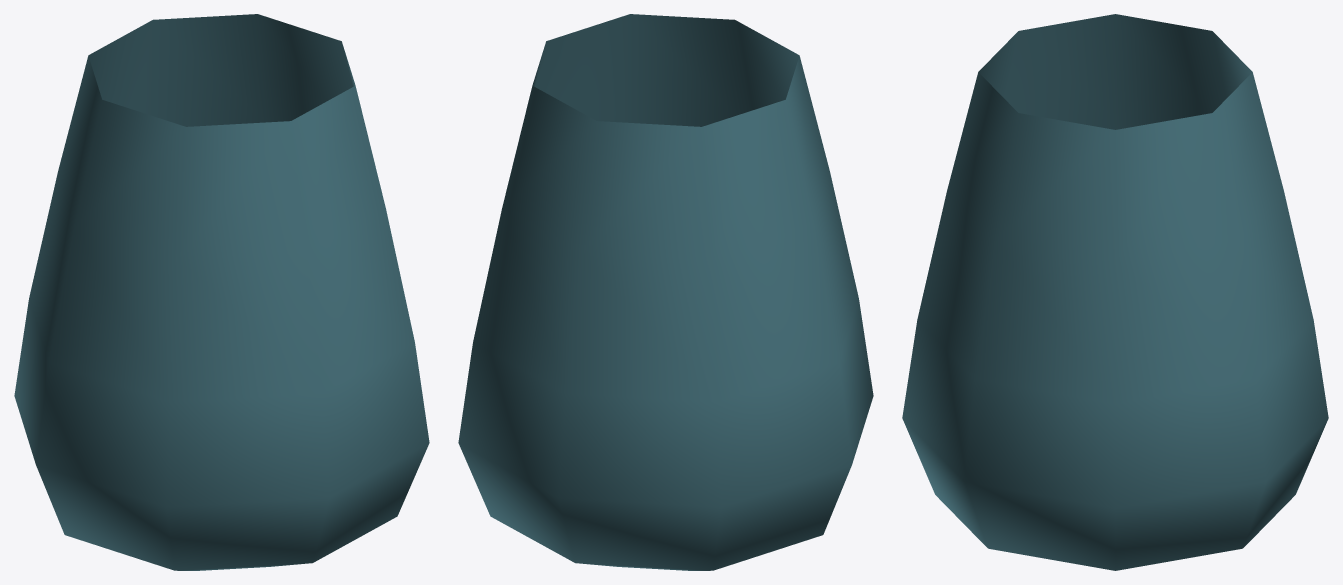
The picture shows the model from 3 angles, left to right: view 1: azimuth 30°, elevation 25°; view 2: azimuth 150°, elevation 25°; view 3: azimuth 270°, elevation 25°; orthographic projection.
Parts seen in each view (by area): view 1: transp.001; view 2: transp.001; view 3: transp.001.
Part boxes in pixels (bbox=[...]): transp.001: bbox=[14, 14, 429, 570]; transp.001: bbox=[458, 14, 873, 570]; transp.001: bbox=[902, 14, 1328, 570].
Size of the model in its own units: 0.4222 by 0.5 by 0.4222.
